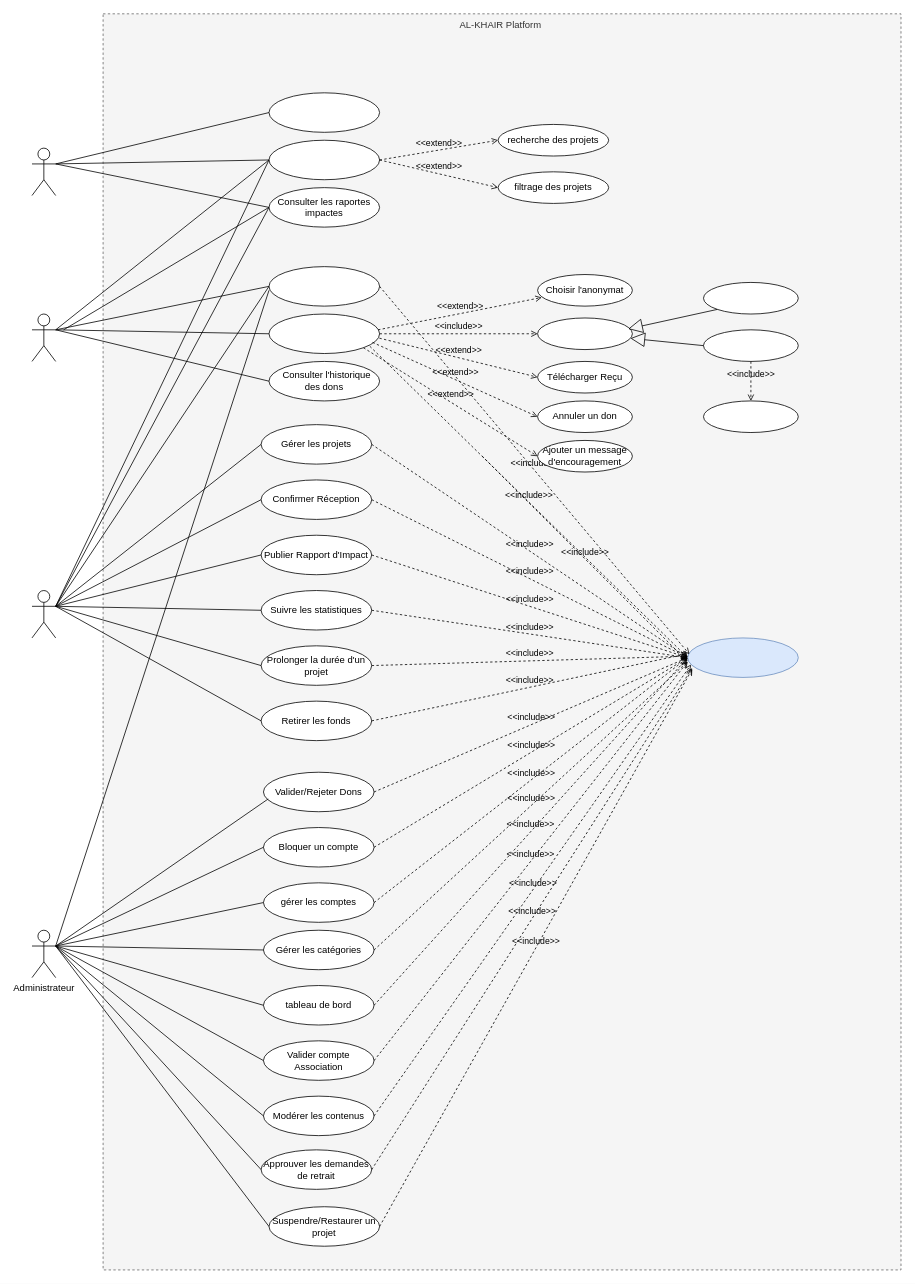
Some shapes in this 915 by 1284 pixel diagram are drawn without their labels. Here are the shapes that lost their labels. From the top down, the box of each, then its label:
(268, 92, 380, 132): S'inscrire
(31, 147, 56, 196): Visiteur
(268, 139, 380, 180): Consulter les projets
(268, 266, 380, 306): Gérer son profil
(703, 282, 798, 314): Paiement en ligne
(31, 313, 56, 361): Donateur
(268, 313, 380, 354): Faire un don
(537, 317, 632, 350): Effectuer un Paiement
(703, 329, 798, 361): Paiement Manuel
(703, 400, 798, 433): Uploader preuve
(31, 590, 56, 638): Association
(687, 637, 798, 677): S'authentifier
